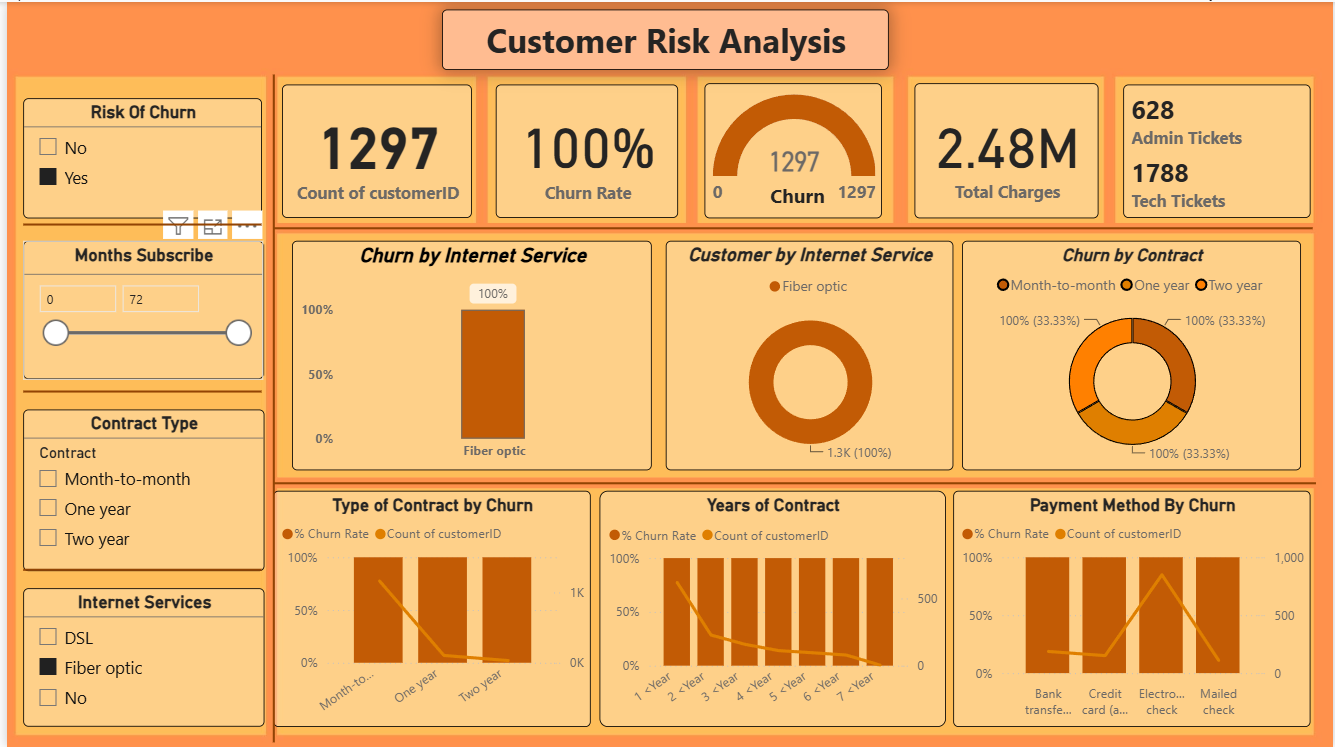

This screenshot's page, from the dashboard's own definition file:
{"tool":"powerbi","page":{"name":"Page 2","canvas":[1280,720],"ordinal":1},"visuals":[{"type":"card","fields":{"Values":["Count(01 Churn-Dataset.customerID)"]},"box":[265.4,79.6,183.4,129.1],"z":0},{"type":"card","fields":{"Values":["01 Churn-Dataset.% Churn Rate"]},"box":[471.7,79.6,176.1,129.1],"z":1000},{"type":"card","fields":{"Values":["Sum(01 Churn-Dataset.TotalCharges)"]},"box":[875.9,78.4,177.3,130.3],"z":2000},{"type":"gauge","fields":{"Y":["01 Churn-Dataset.Churnn"],"MaxValue":["CountNonNull(01 Churn-Dataset.customerID)"]},"box":[673.8,78.8,171.2,130],"z":3000},{"type":"slicer","title":"Risk Of Churn","fields":{"Values":["01 Churn-Dataset.Churn"]},"box":[15.7,92.9,230.4,115.8],"z":4000},{"type":"slicer","title":"Months Subscribe","fields":{"Values":["01 Churn-Dataset.tenure"]},"box":[15.7,230.4,231.6,133.9],"z":5000},{"type":"slicer","title":"Internet Services","fields":{"Values":["01 Churn-Dataset.InternetService"]},"box":[15.7,565.8,232.8,133.9],"z":6000},{"type":"textbox","box":[686.5,168.9,153.2,53.1],"z":7000},{"type":"multiRowCard","fields":{"Values":["Sum(01 Churn-Dataset.numAdminTickets)","Sum(01 Churn-Dataset.numTechTickets)"]},"box":[1077.4,79.6,181,129.1],"z":8000},{"type":"shape","box":[15.7,198.6,230,31.4],"z":9000},{"type":"shape","box":[15.7,360,230,32.9],"z":10000},{"type":"lineStackedColumnComboChart","title":"Churn by Internet Service","fields":{"Category":["01 Churn-Dataset.InternetService"],"Y":["01 Churn-Dataset.% Churn Rate"]},"box":[275.1,230.4,347.5,222],"z":11000},{"type":"textbox","box":[420,7.1,431.4,58.6],"z":12000},{"type":"slicer","title":"Contract Type","fields":{"Values":["01 Churn-Dataset.Contract"]},"box":[15.7,393.3,232.8,155.6],"z":14000},{"type":"shape","box":[15.7,531.4,230,34.3],"z":15000},{"type":"donutChart","title":"Customer by Internet Service","fields":{"Category":["01 Churn-Dataset.InternetService"],"Y":["CountNonNull(01 Churn-Dataset.customerID)"]},"box":[635.8,230.4,277.5,222],"z":16000},{"type":"donutChart","title":"Churn by Contract","fields":{"Category":["01 Churn-Dataset.Contract"],"Y":["01 Churn-Dataset.% Churn Rate"]},"box":[921.7,230.4,326.9,222],"z":17000},{"type":"lineStackedColumnComboChart","title":"Type of Contract by Churn","fields":{"Category":["01 Churn-Dataset.Contract"],"Y2":["CountNonNull(01 Churn-Dataset.customerID)"],"Y":["01 Churn-Dataset.% Churn Rate"]},"box":[257,471.7,306.4,228],"z":18000},{"type":"lineStackedColumnComboChart","title":"Years of Contract","fields":{"Y2":["CountNonNull(01 Churn-Dataset.customerID)"],"Y":["01 Churn-Dataset.% Churn Rate"],"Category":["01 Churn-Dataset.Tenure Years"]},"box":[571.9,471.7,334.2,228],"z":19000},{"type":"lineStackedColumnComboChart","title":"Payment Method By Churn","fields":{"Y2":["CountNonNull(01 Churn-Dataset.customerID)"],"Y":["01 Churn-Dataset.% Churn Rate"],"Category":["01 Churn-Dataset.PaymentMethod"]},"box":[913.3,471.7,345,228],"z":20000},{"type":"shape","box":[234,70,46.9,644.6],"z":21000},{"type":"shape","box":[256.7,183.3,1003.3,70],"z":22000},{"type":"shape","box":[256.7,430,1006.7,70],"z":23000}]}

Visuals, with their boxes in screenshot pixels (x1, y1, x2, y2), scaled from the page's 1280x720 canvas onto the 1335x747 screenshot:
card - Count(01 Churn-Dataset.customerID): {"x1": 277, "y1": 83, "x2": 468, "y2": 217}
card - 01 Churn-Dataset.% Churn Rate: {"x1": 492, "y1": 83, "x2": 676, "y2": 217}
card - Sum(01 Churn-Dataset.TotalCharges): {"x1": 914, "y1": 81, "x2": 1098, "y2": 217}
gauge - 01 Churn-Dataset.Churnn x CountNonNull(01 Churn-Dataset.customerID): {"x1": 703, "y1": 82, "x2": 881, "y2": 217}
"Risk Of Churn" slicer: {"x1": 16, "y1": 96, "x2": 257, "y2": 217}
"Months Subscribe" slicer: {"x1": 16, "y1": 239, "x2": 258, "y2": 378}
"Internet Services" slicer: {"x1": 16, "y1": 587, "x2": 259, "y2": 726}
textbox: {"x1": 716, "y1": 175, "x2": 876, "y2": 230}
multiRowCard - Sum(01 Churn-Dataset.numAdminTickets) x Sum(01 Churn-Dataset.numTechTickets): {"x1": 1124, "y1": 83, "x2": 1312, "y2": 217}
shape: {"x1": 16, "y1": 206, "x2": 256, "y2": 239}
shape: {"x1": 16, "y1": 374, "x2": 256, "y2": 408}
"Churn by Internet Service" lineStackedColumnComboChart: {"x1": 287, "y1": 239, "x2": 649, "y2": 469}
textbox: {"x1": 438, "y1": 7, "x2": 888, "y2": 68}
"Contract Type" slicer: {"x1": 16, "y1": 408, "x2": 259, "y2": 569}
shape: {"x1": 16, "y1": 551, "x2": 256, "y2": 587}
"Customer by Internet Service" donutChart: {"x1": 663, "y1": 239, "x2": 953, "y2": 469}
"Churn by Contract" donutChart: {"x1": 961, "y1": 239, "x2": 1302, "y2": 469}
"Type of Contract by Churn" lineStackedColumnComboChart: {"x1": 268, "y1": 489, "x2": 588, "y2": 726}
"Years of Contract" lineStackedColumnComboChart: {"x1": 596, "y1": 489, "x2": 945, "y2": 726}
"Payment Method By Churn" lineStackedColumnComboChart: {"x1": 953, "y1": 489, "x2": 1312, "y2": 726}
shape: {"x1": 244, "y1": 73, "x2": 293, "y2": 741}
shape: {"x1": 268, "y1": 190, "x2": 1314, "y2": 263}
shape: {"x1": 268, "y1": 446, "x2": 1318, "y2": 519}
